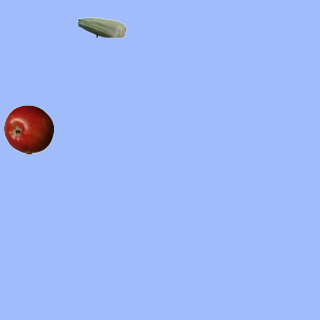Apple Braeburn: (3, 104, 53, 154)
Corn Husk: (76, 2, 126, 52)
